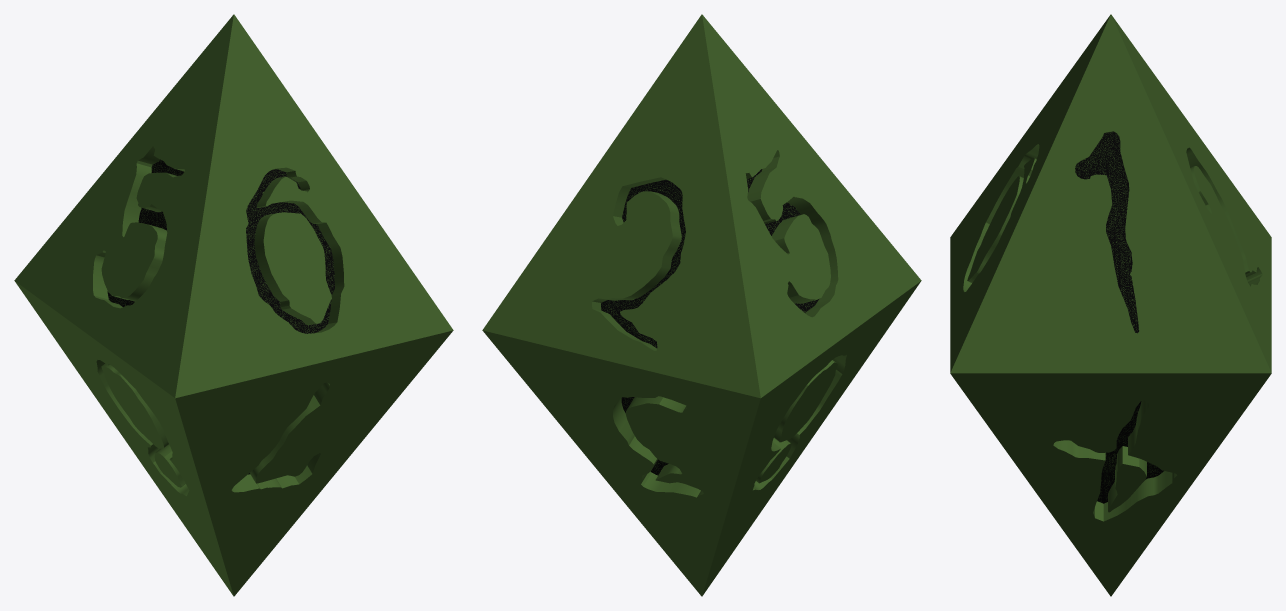
Rendered from dice_8.dae.
3 views of the same model, side by side, from view 1: azimuth 30°, elevation 25°; view 2: azimuth 150°, elevation 25°; view 3: azimuth 270°, elevation 25° (orthographic).
Parts seen in each view (by area): view 1: group_0 (×10); view 2: group_0 (×8); view 3: group_0 (×8).
Part boxes in pixels (box(x1,y1,x2,y2)): group_0 (×10): box(14, 14, 453, 596); group_0 (×8): box(482, 14, 921, 596); group_0 (×8): box(950, 14, 1271, 596).
Size of the model in its own units: 78.74 by 78.74 by 157.
